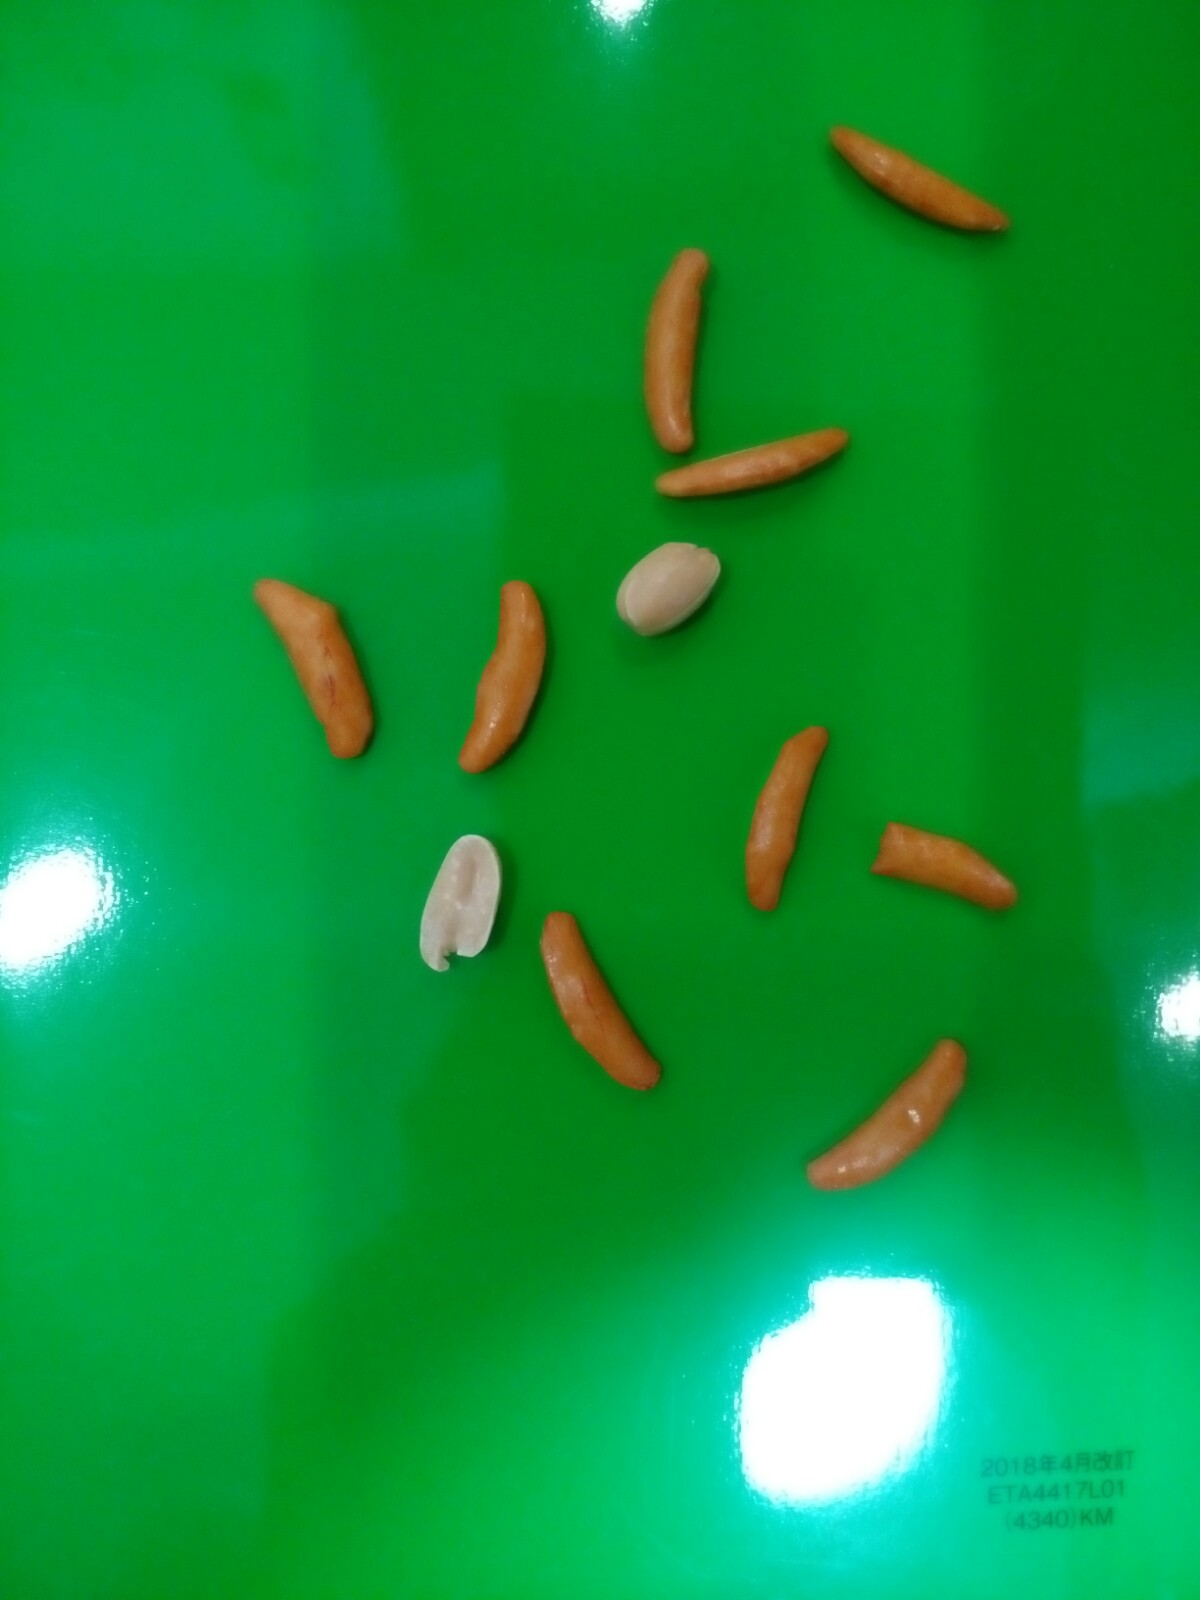peanut: (411, 821, 509, 981), (609, 527, 726, 644)
